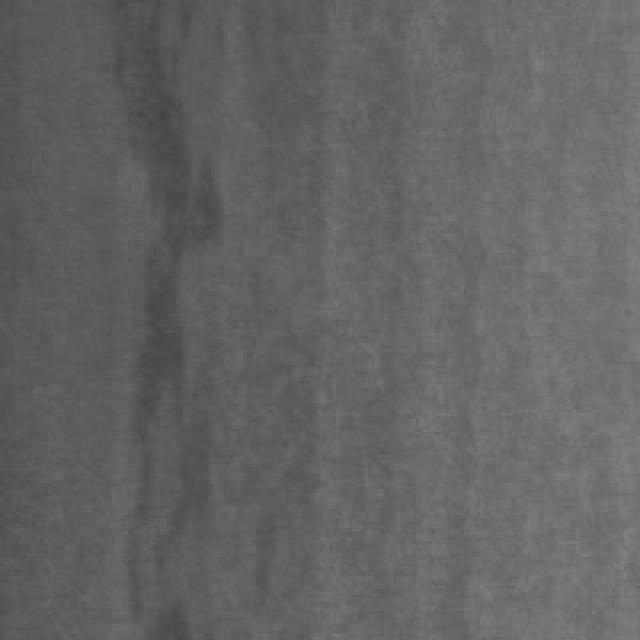inclusion: (93, 3, 221, 627)
